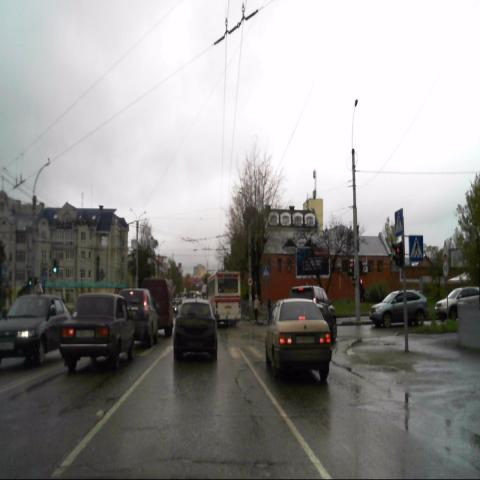1_17: (442, 239, 450, 259)
5_19_1: (409, 235, 423, 261), (394, 208, 404, 238)
